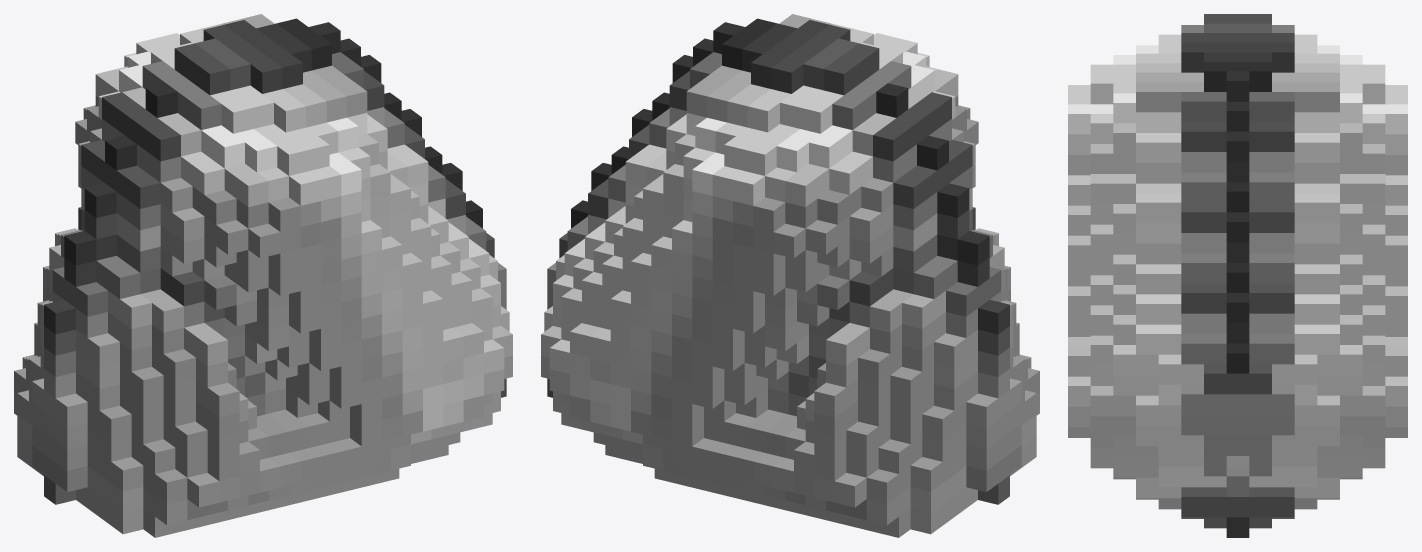
File: rock.obj
3 renders of one model, left to right at view 1: azimuth 30°, elevation 25°; view 2: azimuth 150°, elevation 25°; view 3: azimuth 270°, elevation 25°, orthographic. The views are drawn at different scales.
Visible parts, largest first — view 1: rock; view 2: rock; view 3: rock.
Part boxes in pixels (x1,y1,x2,y2): rock: [14, 14, 512, 537]; rock: [541, 14, 1039, 537]; rock: [1068, 14, 1407, 537].
Bounding box in the file's own units: 21 × 19 × 15.
1 material, 1 textured.
